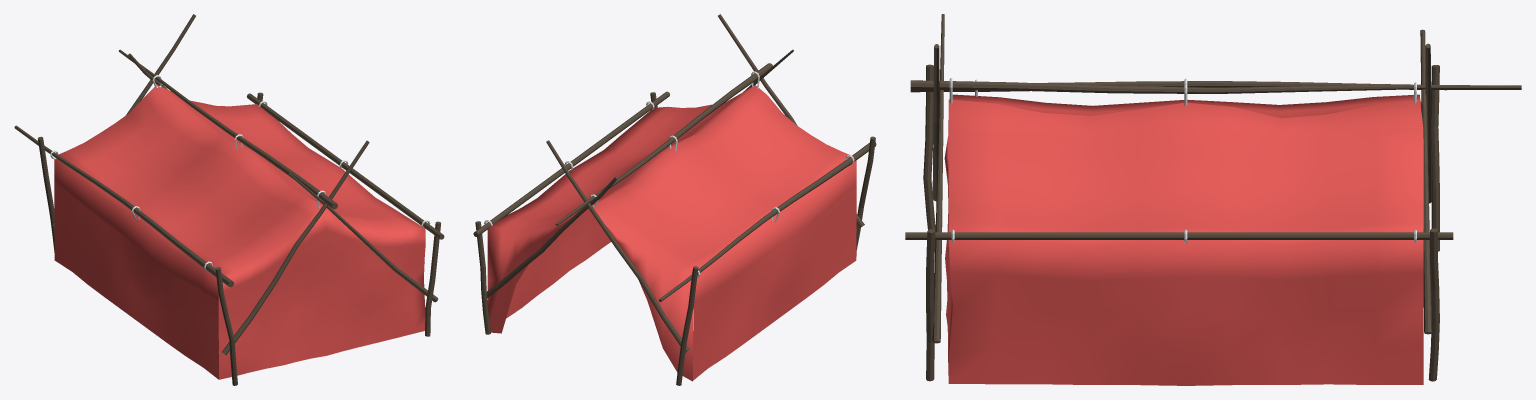
3 views of the same model, side by side, from view 1: azimuth 30°, elevation 25°; view 2: azimuth 150°, elevation 25°; view 3: azimuth 270°, elevation 25° (orthographic). The views are drawn at different scales.
Parts seen in each view (by area): view 1: Plane.001, Cylinder.010, Cylinder.008, Cylinder.009, Cylinder.002, Cylinder.003, Cylinder, Cylinder.001, Cylinder.004, Cylinder.006; view 2: Plane.001, Cylinder.010, Cylinder.008, Cylinder.009, Cylinder.006, Cylinder.007, Cylinder.004, Cylinder.005, Cylinder.002, Cylinder; view 3: Plane.001, Cylinder.010, Cylinder.009, Cylinder.008, Cylinder.003, Cylinder.007, Cylinder.004, Cylinder, Cylinder.005, Cylinder.001, Cylinder.002, Cylinder.006.
Boxes of the visible parts, x1,y1,x2,y2 form: Plane.001: [54, 85, 425, 379]; Cylinder.010: [247, 93, 444, 239]; Cylinder.008: [14, 125, 233, 287]; Cylinder.009: [119, 49, 337, 209]; Cylinder.002: [222, 140, 369, 354]; Cylinder.003: [288, 172, 438, 302]; Cylinder: [215, 267, 237, 385]; Cylinder.001: [425, 221, 440, 336]; Cylinder.004: [37, 136, 54, 252]; Cylinder.006: [52, 14, 195, 226]; Plane.001: [487, 85, 856, 381]; Cylinder.010: [473, 91, 669, 236]; Cylinder.008: [658, 142, 876, 301]; Cylinder.009: [555, 63, 772, 225]; Cylinder.006: [546, 140, 689, 352]; Cylinder.007: [487, 176, 617, 297]; Cylinder.004: [676, 266, 698, 385]; Cylinder.005: [475, 221, 490, 334]; Cylinder.002: [718, 14, 864, 227]; Cylinder: [856, 136, 875, 249]; Plane.001: [944, 94, 1423, 385]; Cylinder.010: [905, 232, 1453, 239]; Cylinder.009: [910, 80, 1521, 93]; Cylinder.008: [910, 81, 1521, 92]; Cylinder.003: [932, 14, 944, 343]; Cylinder.007: [1420, 29, 1432, 334]; Cylinder.004: [1431, 65, 1439, 251]; Cylinder: [923, 64, 935, 252]; Cylinder.005: [1428, 228, 1439, 381]; Cylinder.001: [926, 229, 935, 381]; Cylinder.002: [932, 44, 939, 201]; Cylinder.006: [1425, 43, 1432, 203].
Bounding box in the file's own units: 934 × 836 × 1555.
